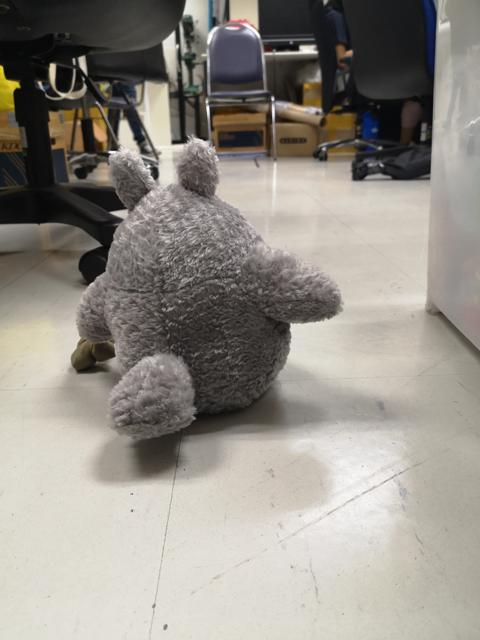totoro: (68, 135, 347, 452)
